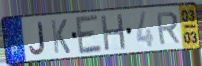4: (135, 10, 156, 49)
E: (74, 13, 104, 56)
H: (100, 12, 128, 53)
J: (28, 21, 47, 57)
K: (50, 18, 72, 55)
R: (155, 10, 182, 46)
